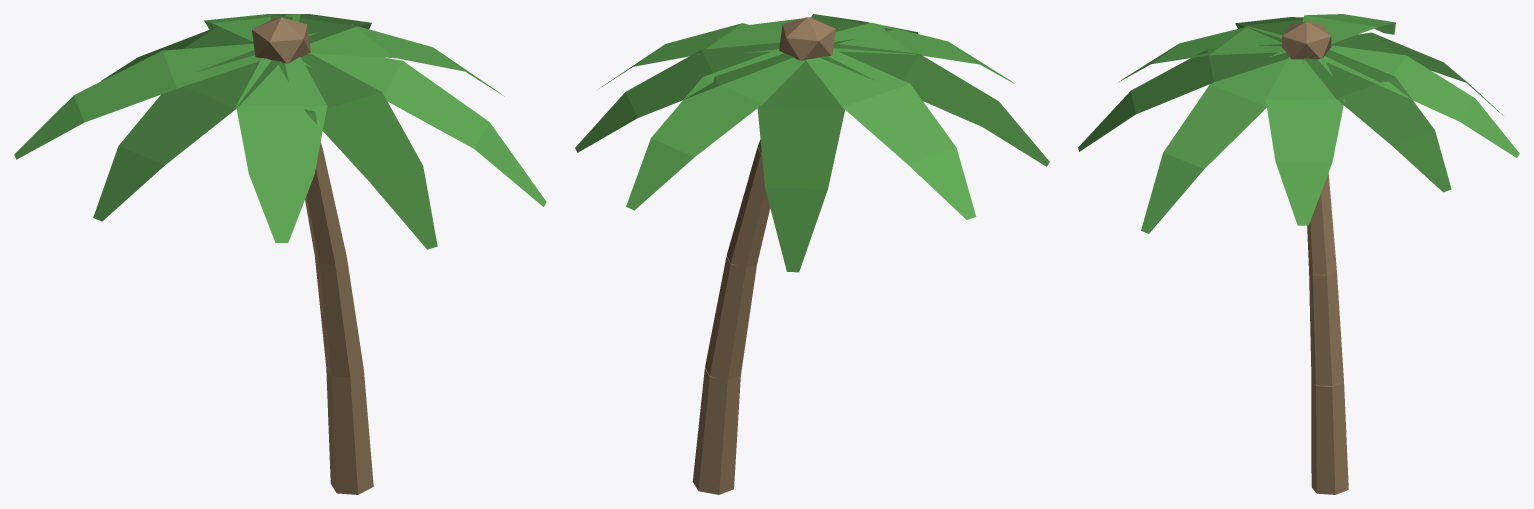
The model's file is palm-v0-spring.glb.
3 renders of one model, left to right at view 1: azimuth 30°, elevation 25°; view 2: azimuth 150°, elevation 25°; view 3: azimuth 270°, elevation 25°, orthographic. The views are drawn at different scales.
Parts seen in each view (by area): view 1: palm_v0; view 2: palm_v0; view 3: palm_v0.
Boxes of the visible parts, <box> form: palm_v0: <box>14,14,546,494</box>; palm_v0: <box>575,14,1049,494</box>; palm_v0: <box>1078,14,1519,494</box>.
Size of what is drawn, in the model's own units: 6.39 by 6.94 by 6.42.
